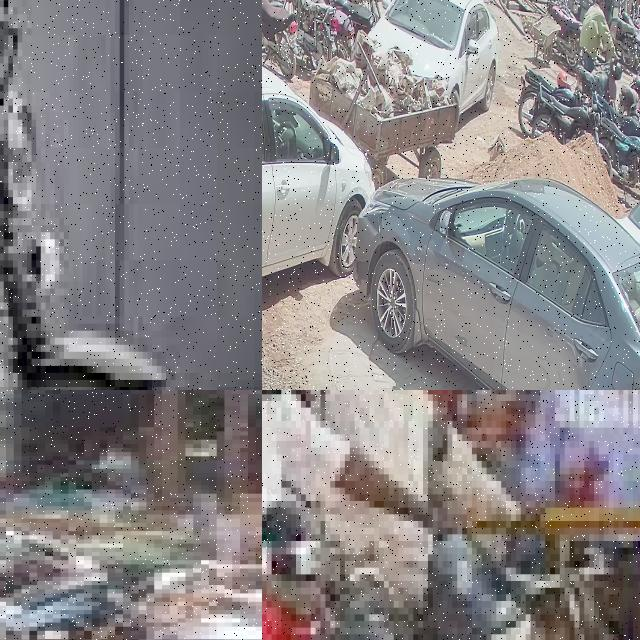bike: (0, 0, 259, 390), (262, 487, 640, 640), (0, 552, 262, 640), (0, 501, 99, 640), (516, 65, 580, 137), (529, 82, 601, 146), (282, 0, 338, 71), (262, 0, 302, 78), (304, 0, 354, 61), (600, 111, 640, 187), (547, 0, 581, 70), (595, 89, 640, 138), (577, 59, 619, 110), (319, 0, 375, 36), (617, 17, 637, 69), (330, 0, 380, 20), (620, 68, 640, 113)
car: (352, 175, 640, 390), (262, 49, 375, 341), (367, 0, 498, 125)
